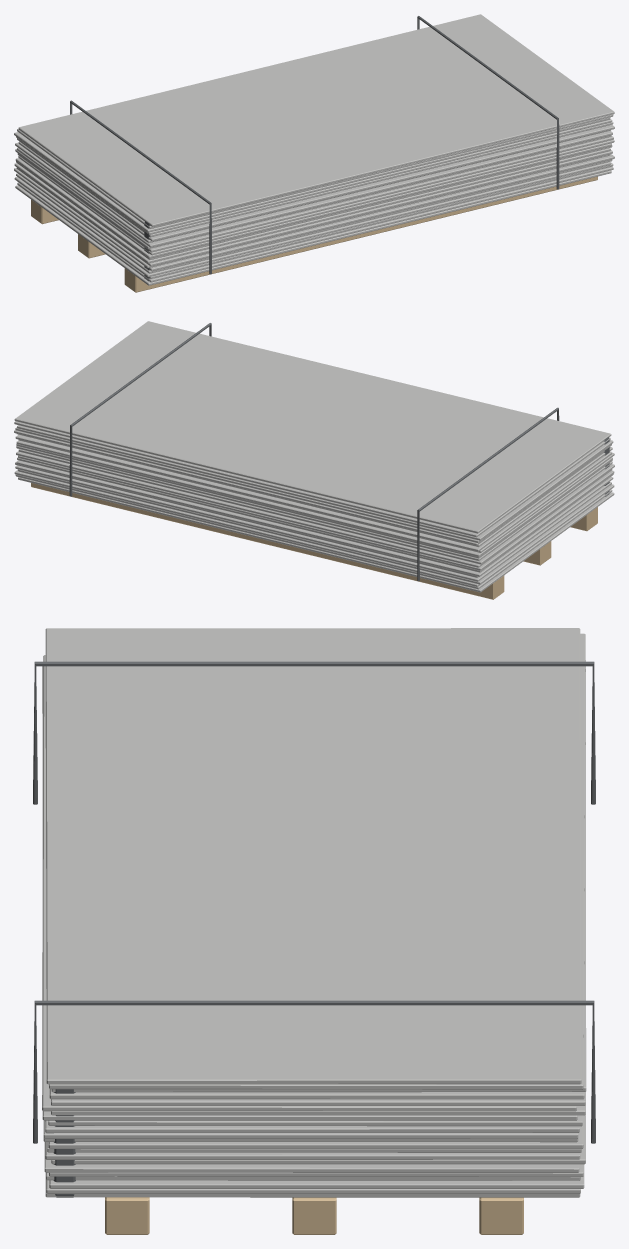
The picture shows the model from 3 angles, top to bottom: view 1: azimuth 30°, elevation 25°; view 2: azimuth 150°, elevation 25°; view 3: azimuth 270°, elevation 25°; orthographic projection. The views are drawn at different scales.
Visible parts, largest first — view 1: plasterboard-sheet-stack; view 2: plasterboard-sheet-stack; view 3: plasterboard-sheet-stack.
Boxes of the visible parts, x1,y1,x2,y2 form: plasterboard-sheet-stack: (14,14,614,292); plasterboard-sheet-stack: (14,321,614,599); plasterboard-sheet-stack: (33,628,595,1234).
Size of the model in its own units: 2.42 by 0.4418 by 1.26.
